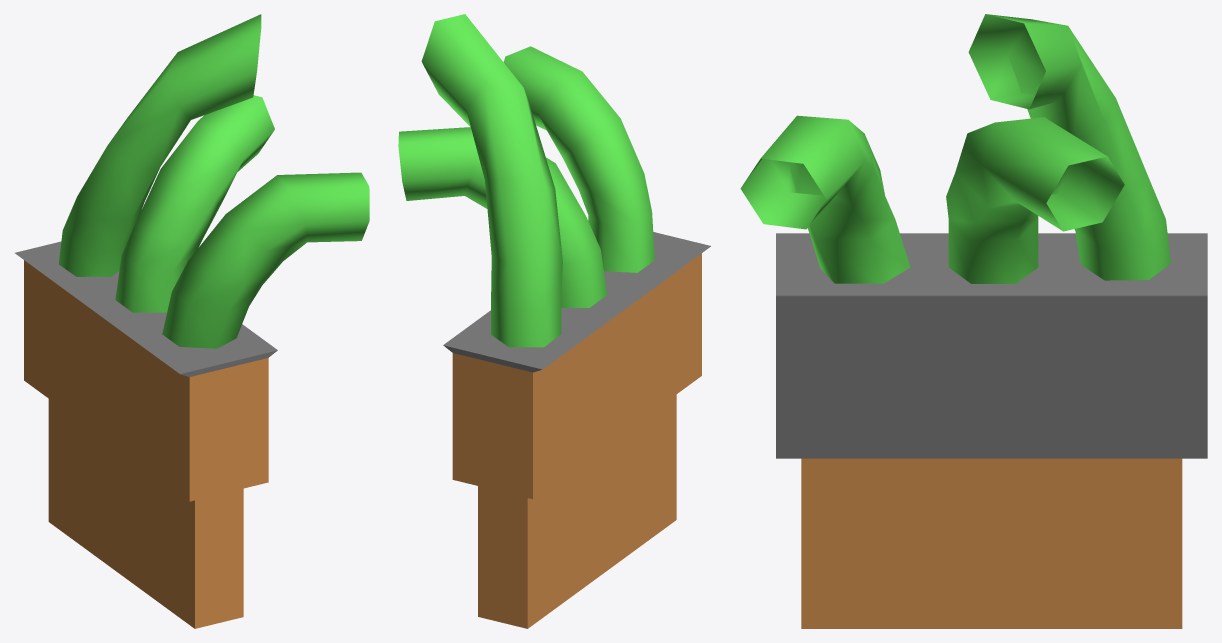
File: Modulo de Conectores 3.fbx
3 renders of one model, left to right at view 1: azimuth 30°, elevation 25°; view 2: azimuth 150°, elevation 25°; view 3: azimuth 270°, elevation 25°, orthographic. The views are drawn at different scales.
Parts seen in each view (by area): view 1: Cube.002; view 2: Cube.002; view 3: Cube.002.
Part boxes in pixels (left/top/right/bottom): Cube.002: left=15, top=14, right=369, bottom=628; Cube.002: left=398, top=14, right=710, bottom=628; Cube.002: left=740, top=14, right=1207, bottom=628.
Bounding box in the file's own units: 226 × 560 × 354.
